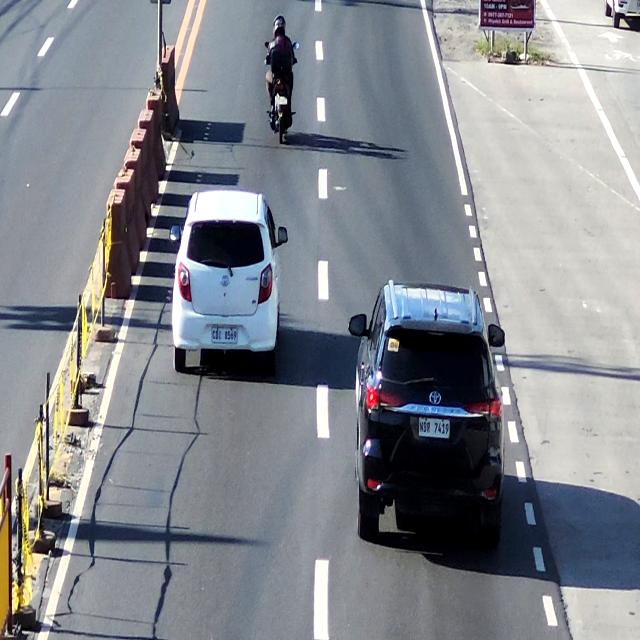Car: (356, 283, 509, 545), (173, 189, 281, 372)
License-Plate: (418, 412, 453, 444), (208, 318, 240, 349)
Motorcycle: (266, 13, 296, 144)
